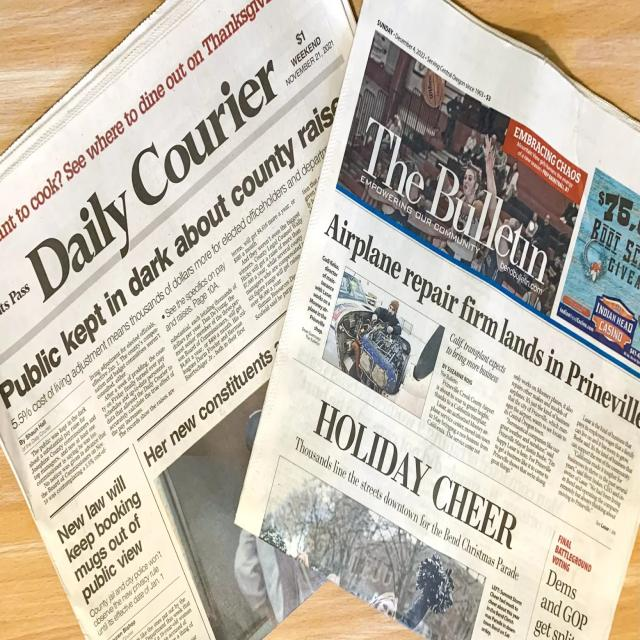newspaper: (247, 0, 640, 640), (1, 0, 358, 640)
